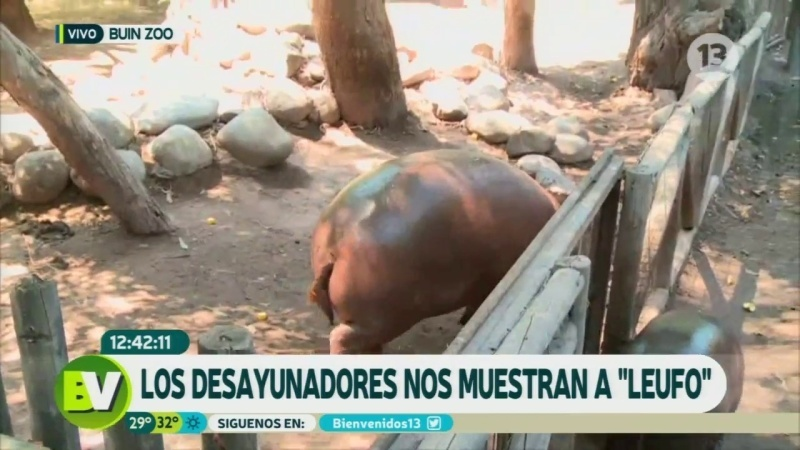hipopotamo: (302, 132, 575, 350)
